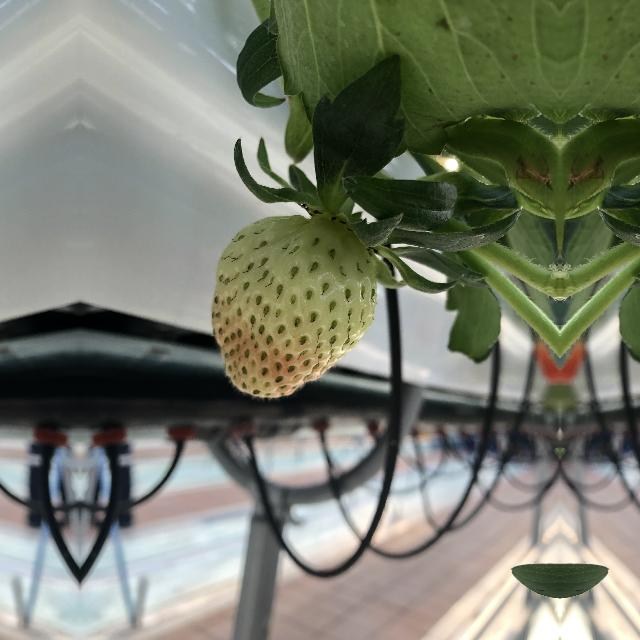Health_50: (207, 205, 383, 405)
